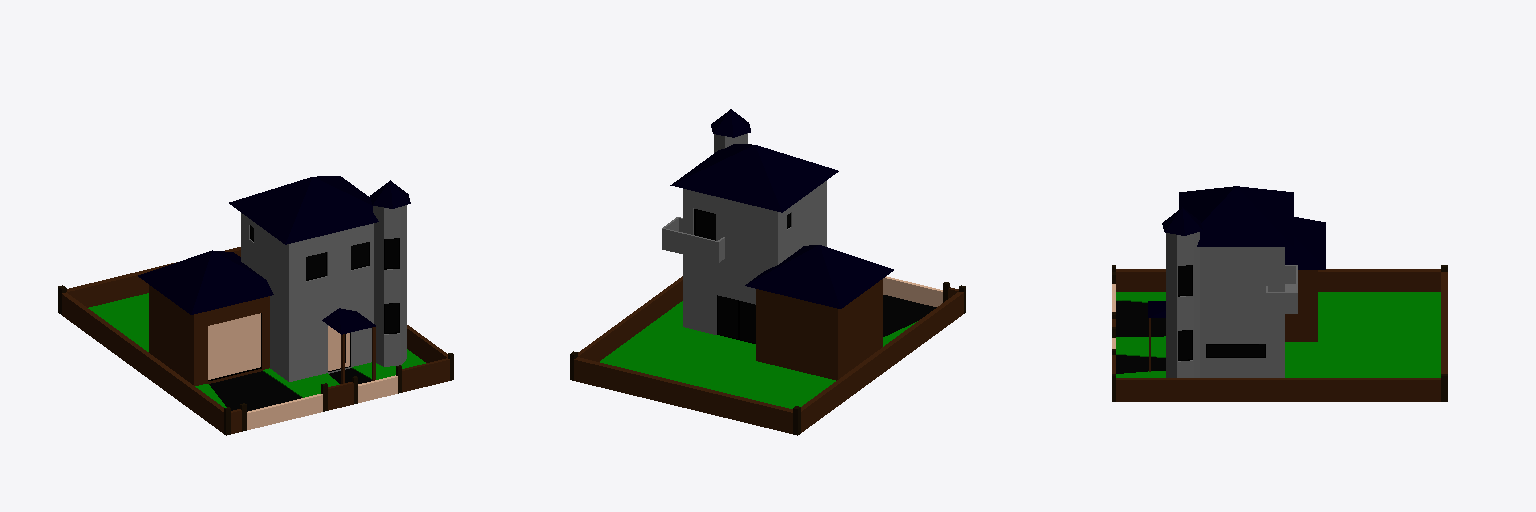
The model's file is pavillonWithTower.obj.
The picture shows the model from 3 angles: view 1: azimuth 30°, elevation 25°; view 2: azimuth 150°, elevation 25°; view 3: azimuth 270°, elevation 25°; orthographic projection.
Parts seen in each view (by area): view 1: roof, main, bareeer, garage, tower, grass, garagedoor, path, portail, window, Poto, door; view 2: roof, bareeer, main, grass, garage, window, balcony, path, portail, Poto; view 3: grass, bareeer, main, roof, tower, path, garage, window, balcony, Poto.
Boxes of the visible parts, <box> form: roof: <box>138,176,410,334</box>; main: <box>241,213,373,381</box>; bareeer: <box>62,247,449,433</box>; garage: <box>149,285,269,385</box>; tower: <box>373,205,406,366</box>; grass: <box>88,293,425,407</box>; garagedoor: <box>208,313,260,379</box>; path: <box>209,368,371,411</box>; portail: <box>247,375,397,429</box>; window: <box>251,226,398,362</box>; Poto: <box>58,285,453,435</box>; door: <box>328,326,349,370</box>; roof: <box>670,109,893,308</box>; bareeer: <box>574,276,963,433</box>; main: <box>683,181,826,334</box>; grass: <box>600,301,917,408</box>; garage: <box>756,279,882,380</box>; window: <box>696,210,789,343</box>; balcony: <box>662,217,724,262</box>; path: <box>883,295,936,336</box>; portail: <box>883,276,942,306</box>; Poto: <box>570,282,965,435</box>; grass: <box>1116,292,1440,377</box>; bareeer: <box>1112,269,1447,401</box>; main: <box>1200,247,1284,377</box>; roof: <box>1148,186,1325,317</box>; tower: <box>1166,232,1199,377</box>; path: <box>1116,301,1165,373</box>; garage: <box>1285,270,1317,341</box>; window: <box>1178,265,1264,359</box>; balcony: <box>1266,265,1297,313</box>; Poto: <box>1112,265,1447,401</box>.
Size of the model in its own units: 150 by 114 by 192.